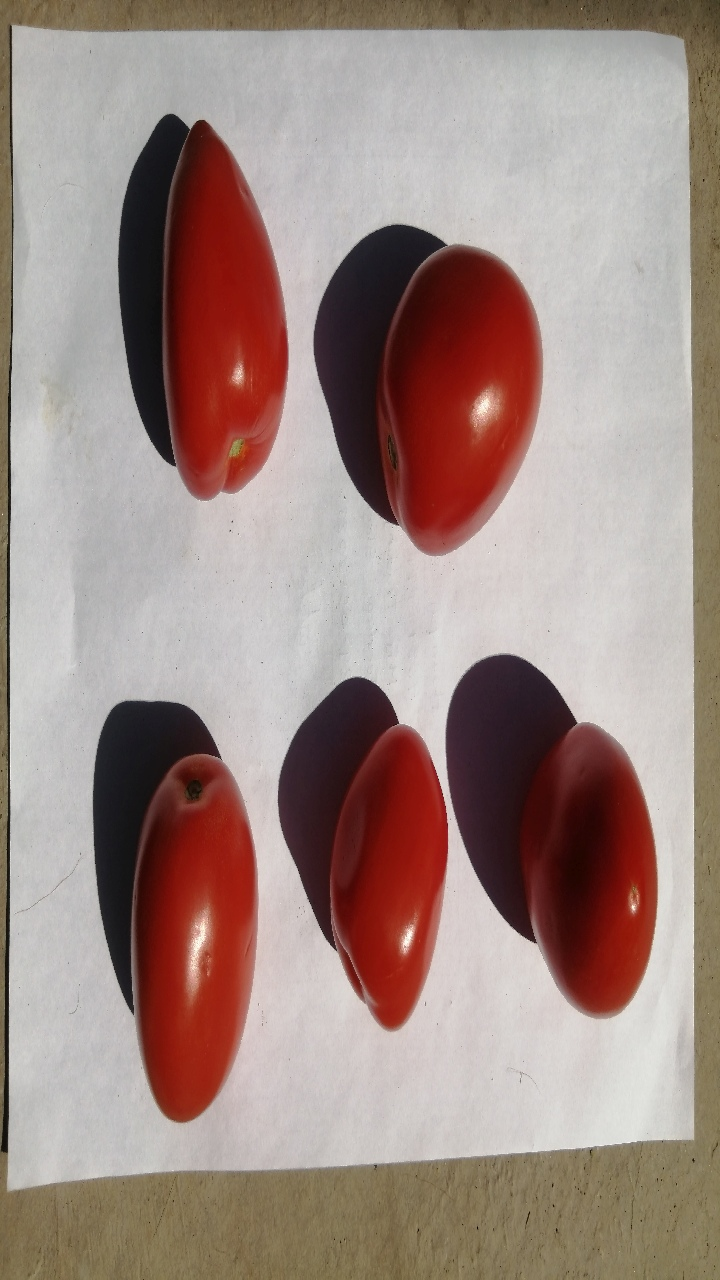tomateRojo: (91, 714, 280, 1142), (349, 214, 568, 579), (135, 92, 320, 511), (481, 662, 674, 1031), (295, 699, 449, 1051)
